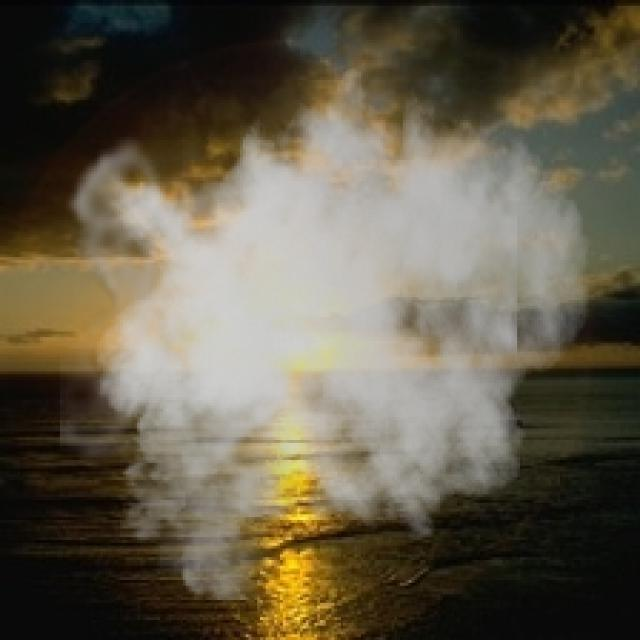Smoke: (59, 45, 592, 600)
